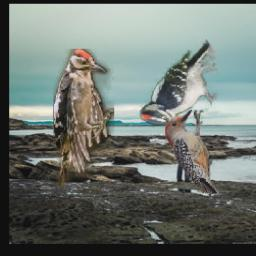Woodpecker: (53, 50, 114, 188), (140, 39, 217, 128), (165, 111, 218, 194)
